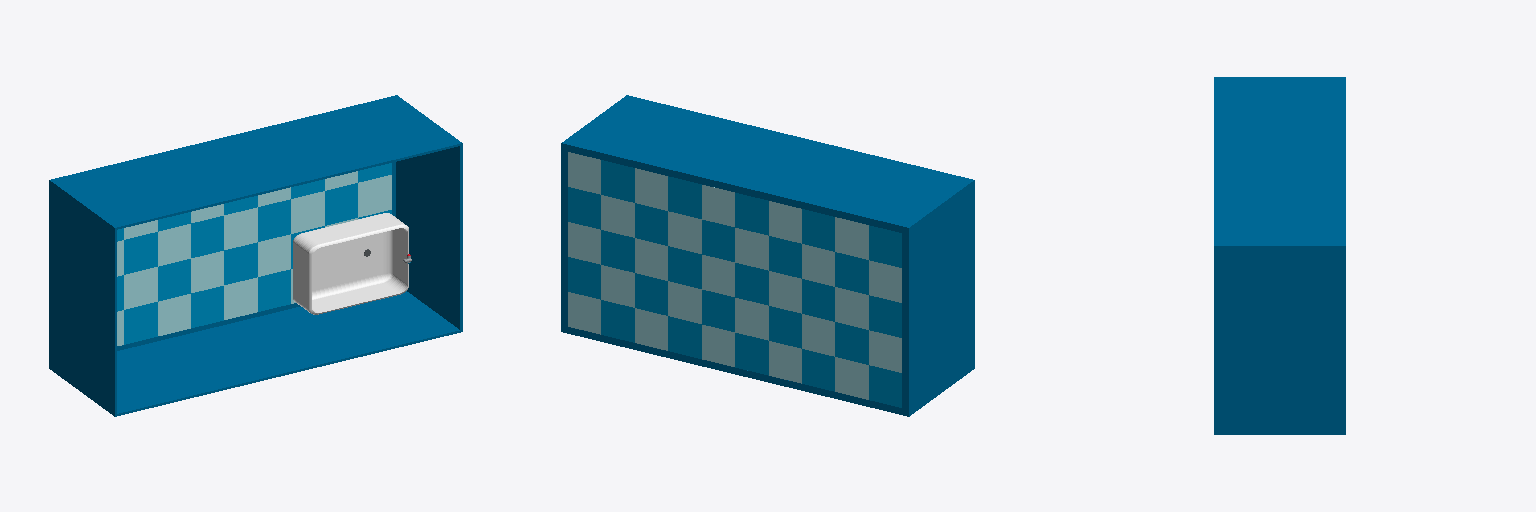
File: bathroom.obj
The picture shows the model from 3 angles: view 1: azimuth 30°, elevation 25°; view 2: azimuth 150°, elevation 25°; view 3: azimuth 270°, elevation 25°; orthographic projection.
Visible parts, largest first — view 1: obj_0; view 2: obj_0; view 3: obj_0.
Boxes of the visible parts, x1=… form: obj_0: x1=49, y1=95, x2=462, y2=416; obj_0: x1=561, y1=95, x2=974, y2=416; obj_0: x1=1214, y1=77, x2=1345, y2=434.
Bounding box in the file's own units: 156 × 81 × 51.